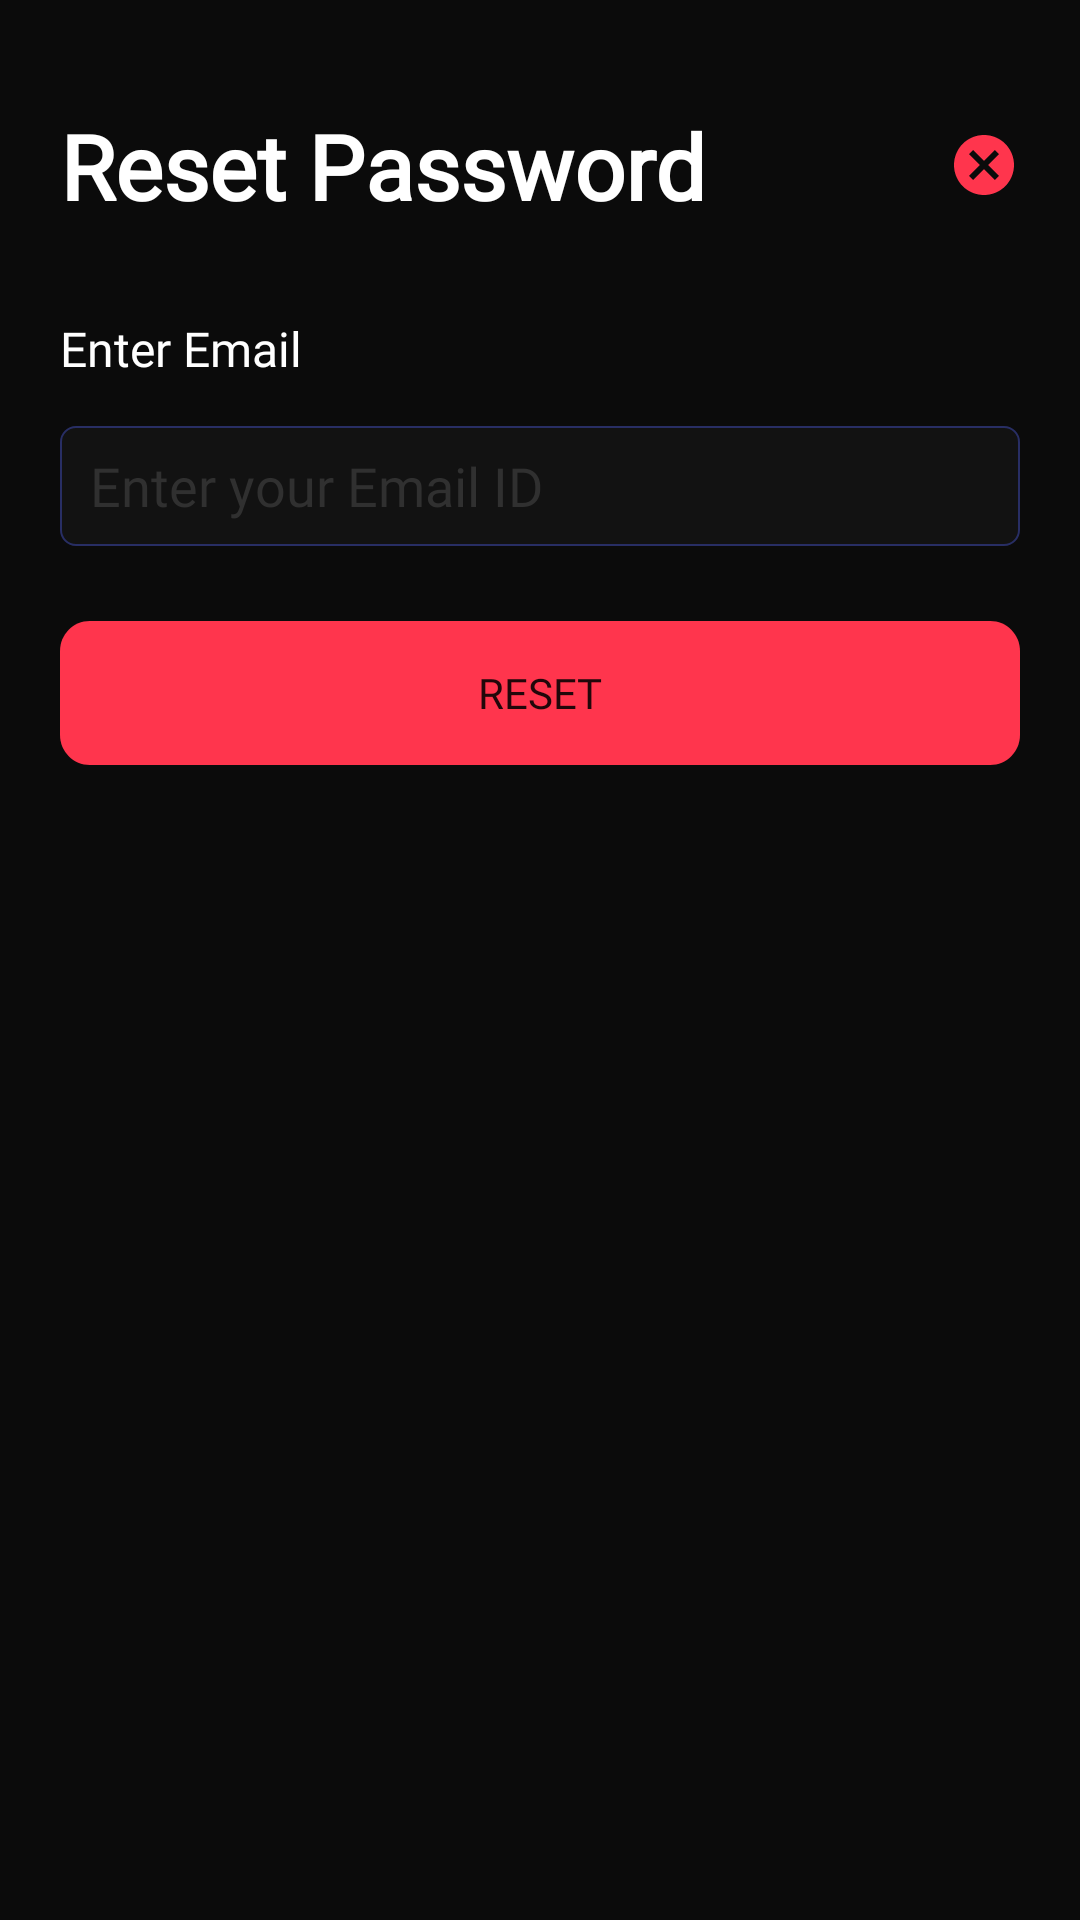

Where icons sit on this 1080*1920 app screen, as [x1, y1, x2, y2]:
cancel: [954, 135, 1014, 195]
